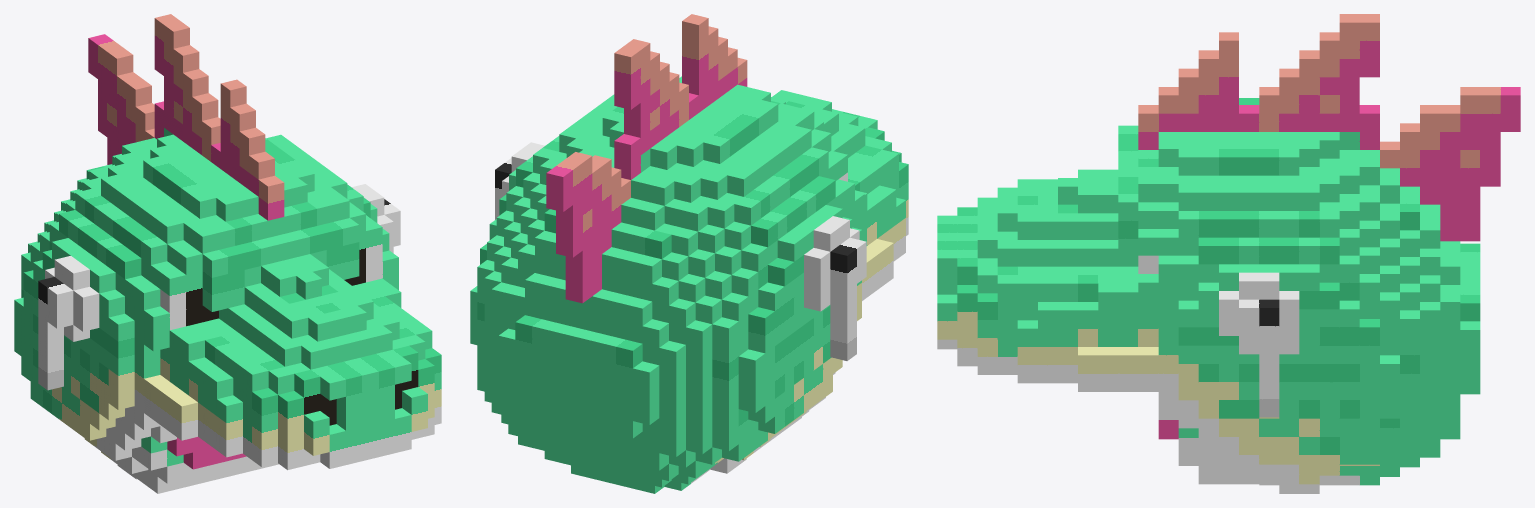
File: airpods.gltf
3 views of the same model, side by side, from view 1: azimuth 30°, elevation 25°; view 2: azimuth 150°, elevation 25°; view 3: azimuth 270°, elevation 25° (orthographic). The views are drawn at different scales.
Parts seen in each view (by area): view 1: 20_Zilla_Head_AirPods-Mesh; view 2: 20_Zilla_Head_AirPods-Mesh; view 3: 20_Zilla_Head_AirPods-Mesh.
Part boxes in pixels (x1,y1,x2,y2): 20_Zilla_Head_AirPods-Mesh: [14, 14, 441, 493]; 20_Zilla_Head_AirPods-Mesh: [470, 14, 908, 493]; 20_Zilla_Head_AirPods-Mesh: [937, 14, 1520, 493].
Size of the model in its own units: 21 by 24 by 29.
1 material, 1 textured.
